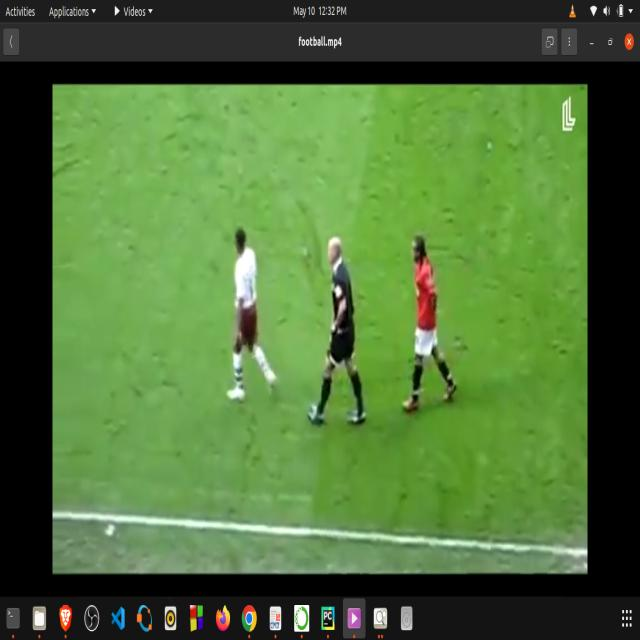Refree: (312, 224, 376, 449)
football-players: (399, 221, 463, 434), (224, 206, 283, 421)
